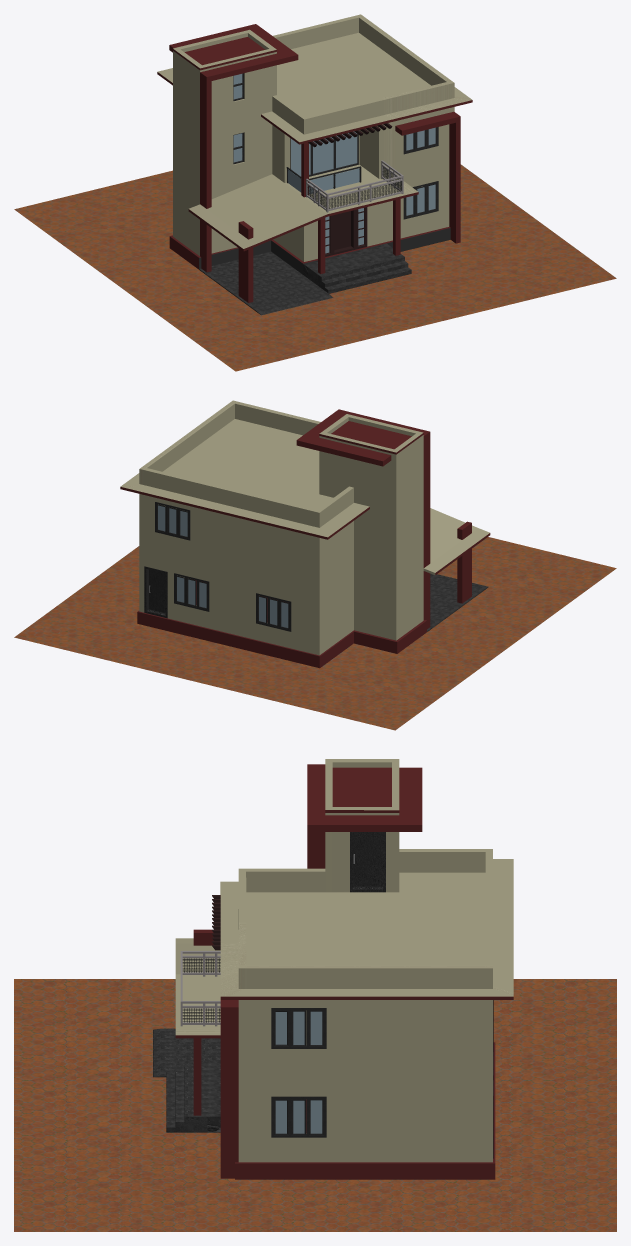
3 renders of one model, top to bottom at view 1: azimuth 30°, elevation 25°; view 2: azimuth 150°, elevation 25°; view 3: azimuth 270°, elevation 25°, orthographic. The views are drawn at different scales.
Parts seen in each view (by area): view 1: Plane.008, Plane, shade 02, Cube.047, Cube.046, Cube.045, shade 01, Cube.064, Cube.044, piller 1, Cube.049, Cube.068 (+3 smaller); view 2: Plane.008, Plane, shade 02, Cube.045, Cube.047, piller 1, Cube.080, Cube.078, Cube.076, Cube.054, Cube.053; view 3: Plane, Plane.008, shade 02, Cube.045, Cube.046, shade 01, Cube.047, Cube.002, Cube.071, Cube.073, Cube.044, Cube.072 (+1 smaller).
Boxes of the visible parts, x1=… form: Plane.008: x1=157, y1=14, x2=472, y2=274; Plane: x1=14, y1=164, x2=616, y2=371; shade 02: x1=169, y1=24, x2=298, y2=272; Cube.047: x1=199, y1=251, x2=332, y2=315; Cube.046: x1=303, y1=243, x2=411, y2=293; Cube.045: x1=169, y1=226, x2=450, y2=274; shade 01: x1=395, y1=111, x2=460, y2=243; Cube.064: x1=291, y1=131, x2=357, y2=176; Cube.044: x1=306, y1=160, x2=403, y2=212; piller 1: x1=238, y1=221, x2=253, y2=302; Cube.049: x1=325, y1=207, x2=367, y2=256; Cube.068: x1=405, y1=183, x2=436, y2=217; Plane.008: x1=120, y1=400, x2=490, y2=655; Plane: x1=14, y1=537, x2=616, y2=730; shade 02: x1=296, y1=409, x2=430, y2=628; Cube.045: x1=137, y1=579, x2=426, y2=668; Cube.047: x1=427, y1=573, x2=488, y2=631; piller 1: x1=457, y1=521, x2=471, y2=603; Cube.080: x1=156, y1=504, x2=188, y2=538; Cube.078: x1=257, y1=595, x2=289, y2=629; Cube.076: x1=175, y1=575, x2=207, y2=609; Cube.054: x1=149, y1=569, x2=165, y2=613; Cube.053: x1=144, y1=566, x2=167, y2=618; Plane: x1=14, y1=979, x2=616, y2=1231; Plane.008: x1=175, y1=759, x2=513, y2=1162; shade 02: x1=307, y1=764, x2=422, y2=868; Cube.045: x1=235, y1=1042, x2=495, y2=1179; Cube.046: x1=166, y1=1061, x2=220, y2=1132; shade 01: x1=220, y1=1000, x2=238, y2=1178; Cube.047: x1=153, y1=1028, x2=220, y2=1077; Cube.002: x1=352, y1=832, x2=382, y2=886; Cube.071: x1=274, y1=1010, x2=323, y2=1046; Cube.073: x1=274, y1=1099, x2=323, y2=1135; Cube.044: x1=180, y1=951, x2=220, y2=1026; Cube.072: x1=271, y1=1096, x2=326, y2=1137.
Size of the model in its own units: 19.82 by 9.94 by 19.96.
9 materials, 4 textured.
